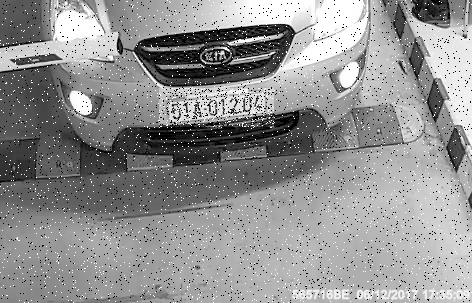License-plate: (161, 90, 277, 130)
